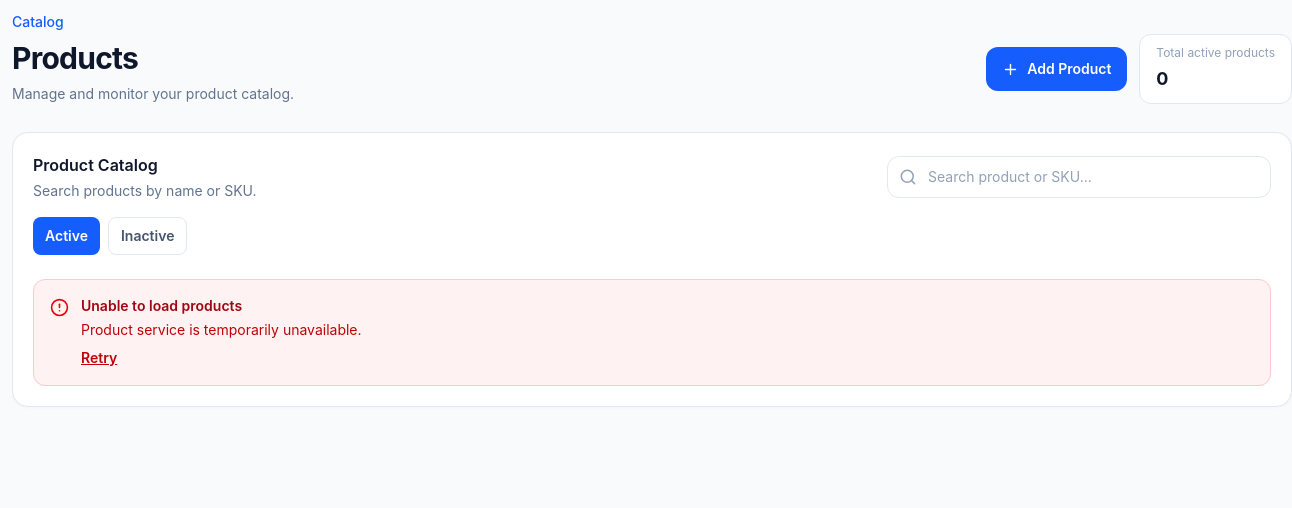
it: ProductsPage › retries loading products after an initial API failure
This screenshot has width=1292, height=508.
Expected: the message shows "Product service is temporarily unavailable.", [81,321,362,338]
Click the button "Retry" at coordinates (99, 358), box [81,348,117,368]
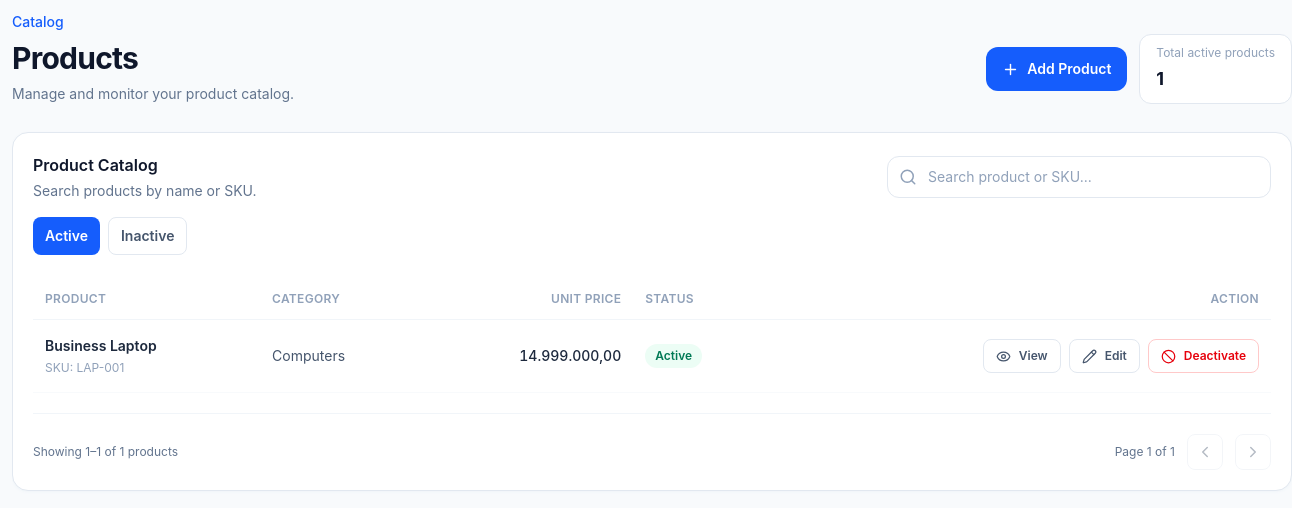
Now the text "Business Laptop" is shown, box [45,337,157,354]
Now the text "Unable to load products" is gone
